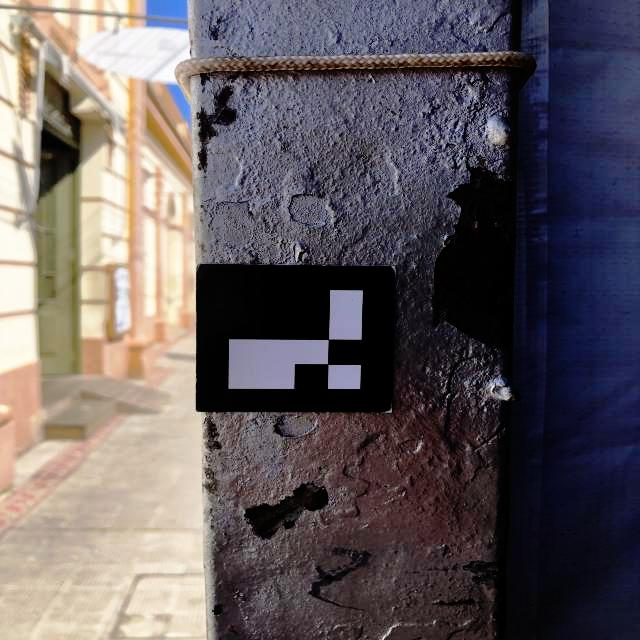Corrosion: (435, 167, 514, 349), (492, 573, 507, 632), (197, 111, 212, 141), (213, 107, 235, 122), (218, 86, 233, 106), (311, 491, 328, 505), (451, 599, 475, 605), (293, 486, 306, 495), (200, 74, 208, 85), (210, 31, 218, 40), (284, 522, 294, 528), (325, 574, 334, 580)
